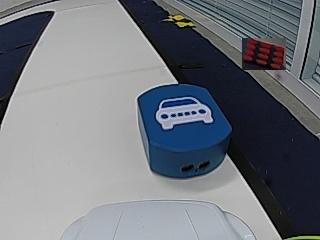safety: (155, 95, 215, 129)
